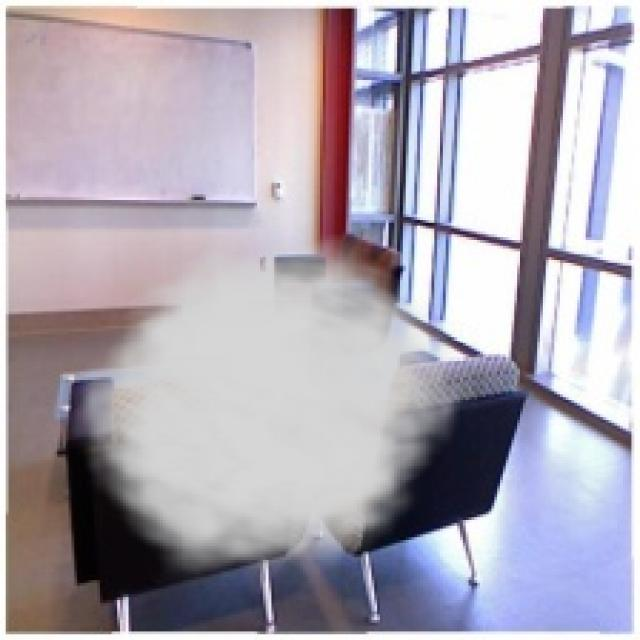smoke: (60, 234, 477, 589)
